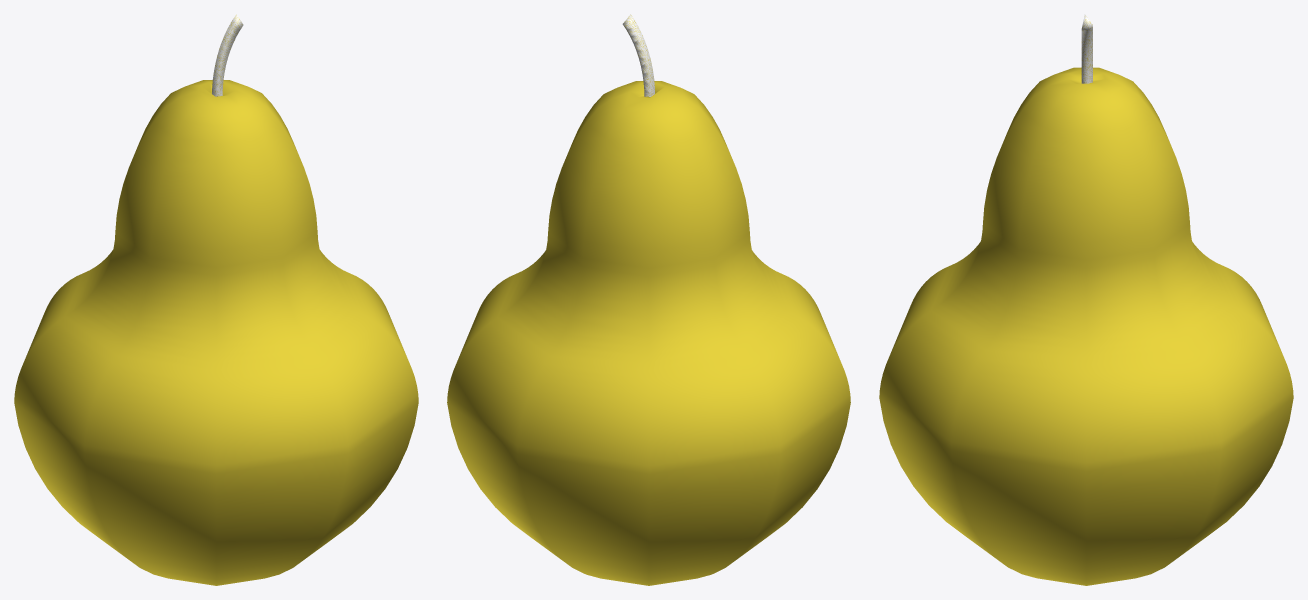
File: Pear.dae
The picture shows the model from 3 angles, left to right: view 1: azimuth 30°, elevation 25°; view 2: azimuth 150°, elevation 25°; view 3: azimuth 270°, elevation 25°; orthographic projection. The views are drawn at different scales.
Parts seen in each view (by area): view 1: SketchUp (×2); view 2: SketchUp (×2); view 3: SketchUp (×2).
Part boxes in pixels (x1=…): SketchUp (×2): x1=14, y1=14, x2=418, y2=585; SketchUp (×2): x1=447, y1=14, x2=850, y2=585; SketchUp (×2): x1=879, y1=14, x2=1293, y2=585.
Bounding box in the file's own units: 3.49 × 3.55 × 5.27.
